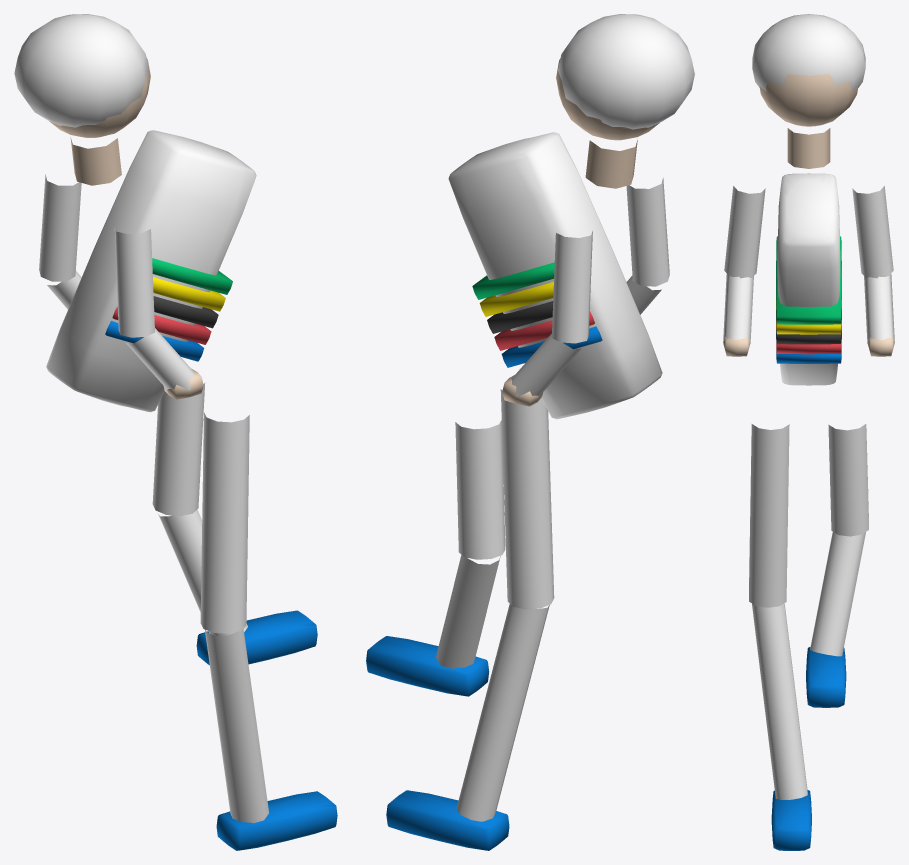
File: kit-rainbow.glb
3 views of the same model, side by side, from view 1: azimuth 30°, elevation 25°; view 2: azimuth 150°, elevation 25°; view 3: azimuth 270°, elevation 25° (orthographic). The views are drawn at different scales.
Visible parts, largest first — view 1: kit-rainbow; view 2: kit-rainbow; view 3: kit-rainbow.
Part boxes in pixels (<box>): kit-rainbow: <box>14,14,337,850</box>; kit-rainbow: <box>366,14,694,850</box>; kit-rainbow: <box>723,14,894,850</box>.
Size of the model in its own units: 0.6524 by 1.79 by 0.381.
